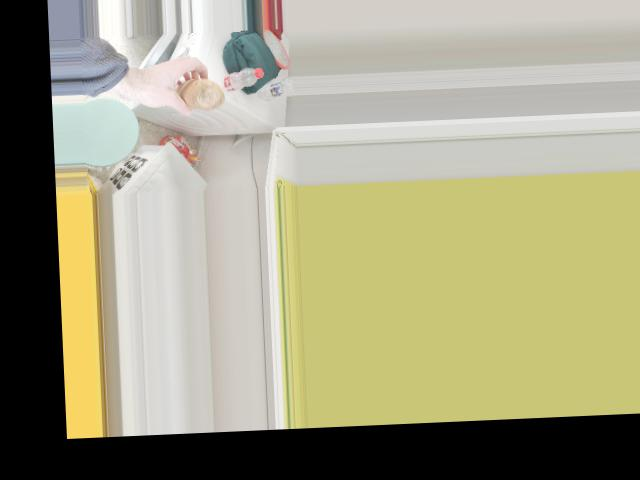sweet_potato: (172, 74, 227, 117)
